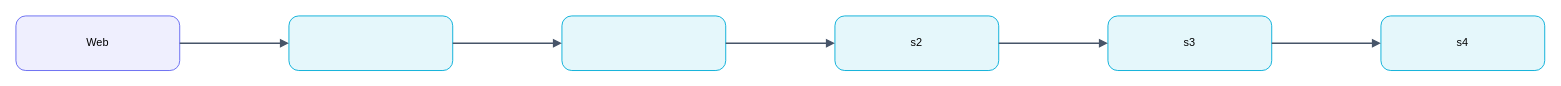
This 1561x86 diagram has some shape labels left out. Here are the shapes that lost their labels. From the top down, the box of each, then its label:
(288, 15, 453, 71): s0
(561, 15, 726, 71): s1
